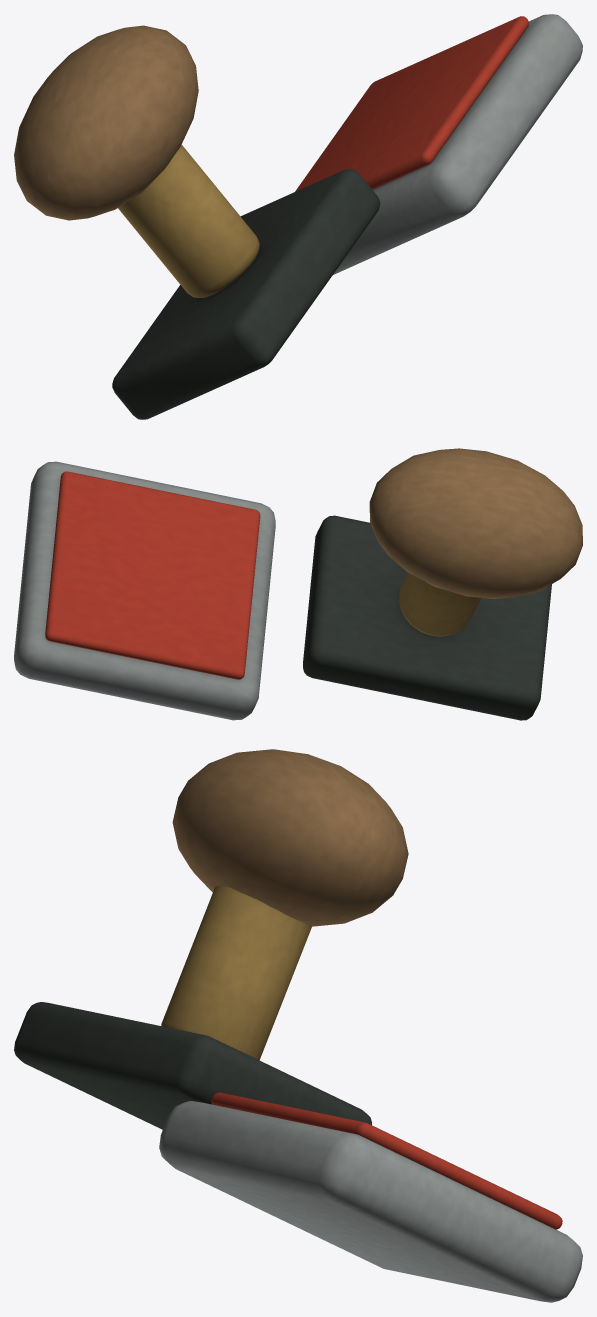
The picture shows the model from 3 angles, top to bottom: view 1: azimuth 30°, elevation 25°; view 2: azimuth 150°, elevation 25°; view 3: azimuth 270°, elevation 25°; orthographic projection. The views are drawn at different scales.
Visible parts, largest first — view 1: Recessed ink pad tray; view 2: Recessed ink pad tray; view 3: Recessed ink pad tray.
Part boxes in pixels (box(x1,y1,x2,y2)): Recessed ink pad tray: box(14, 14, 582, 419); Recessed ink pad tray: box(14, 448, 582, 720); Recessed ink pad tray: box(14, 749, 582, 1302).
Size of the model in its own units: 1.22 by 0.6581 by 0.8688.
1 material, 1 textured.
